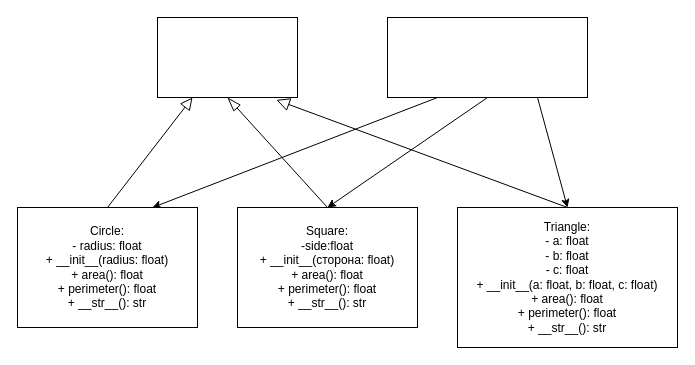
Some shapes in this 695 by 365 pixel diagram are drawn without their labels. Each missing label, with the box of its shape:
Shape + area(): float + perimeter(): float: (156, 16, 298, 98)
ShapeFactory + create_shape(name: str): Shape: (386, 16, 588, 98)
